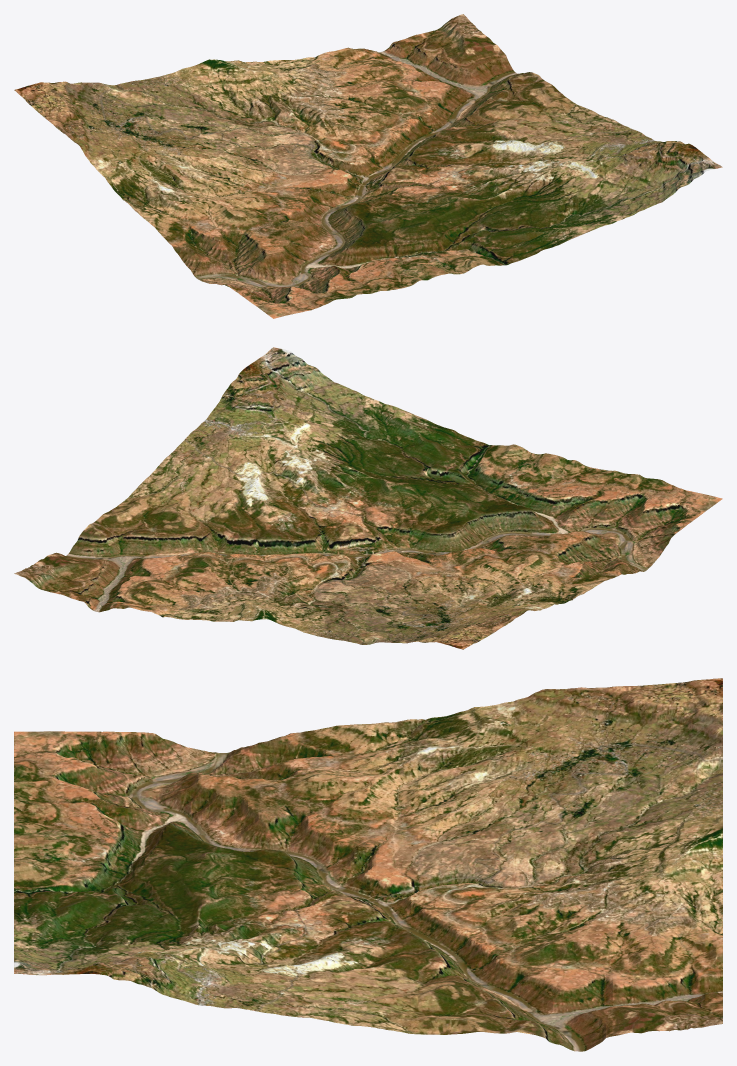
File: terrain.glb
3 views of the same model, one above another, from view 1: azimuth 30°, elevation 25°; view 2: azimuth 150°, elevation 25°; view 3: azimuth 270°, elevation 25° (orthographic). The views are drawn at different scales.
Size of the model in its own units: 12000 by 1480 by 12000.
1 material, 1 textured.
